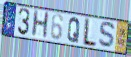3: (17, 8, 31, 37)
6: (50, 13, 64, 42)
H: (30, 9, 51, 40)
L: (81, 18, 98, 49)
Q: (67, 16, 82, 44)
S: (97, 21, 117, 50)
